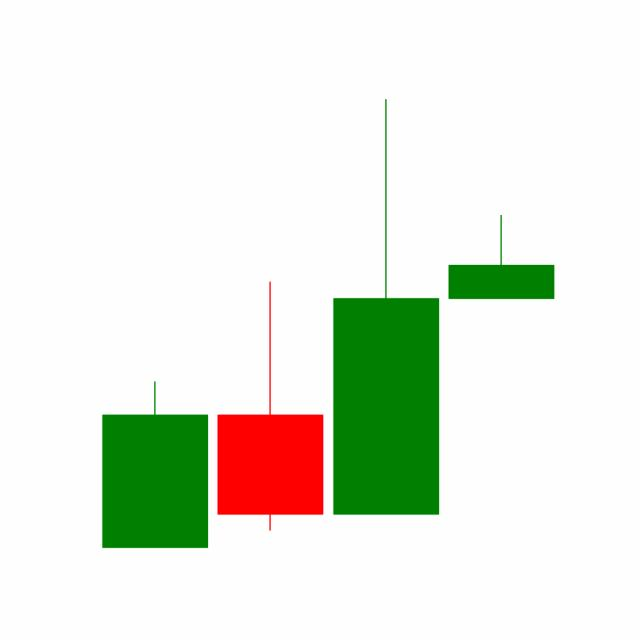Gravestone Doji: (443, 213, 559, 300)
